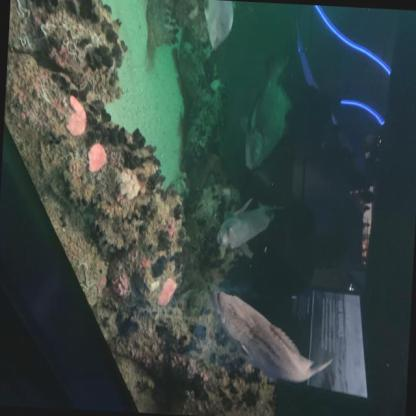fish: (207, 290, 337, 384), (238, 49, 296, 172), (215, 194, 287, 260), (198, 0, 240, 53)
